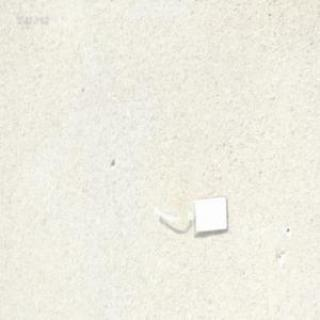LuggageTagtrack_idkeyframe: (152, 192, 228, 235)
